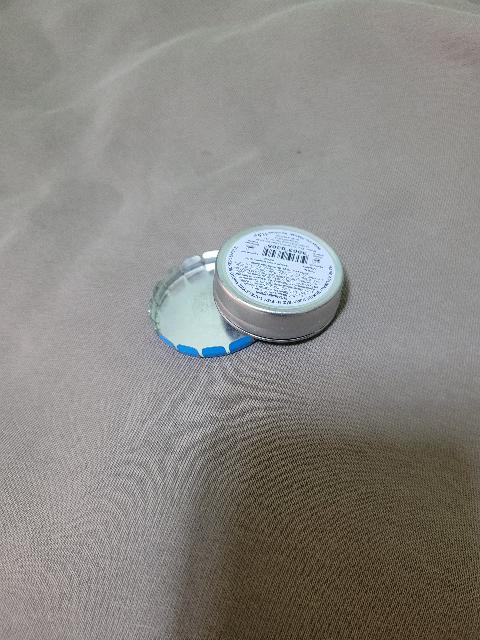Metal: (216, 222, 353, 345), (146, 248, 264, 366)
